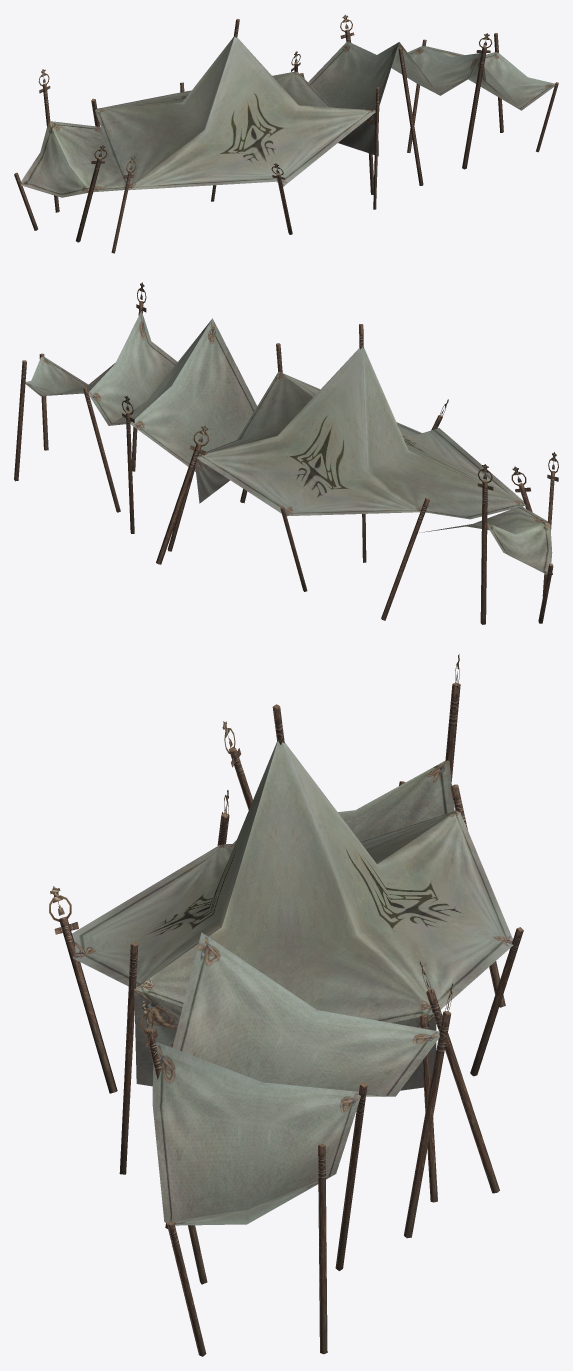
File: yzc_wdm08_LOD1.FBX
3 views of the same model, one above another, from view 1: azimuth 30°, elevation 25°; view 2: azimuth 150°, elevation 25°; view 3: azimuth 270°, elevation 25° (orthographic). The views are drawn at different scales.
Visible parts, largest first — view 1: yzc_wdm08_LOD1; view 2: yzc_wdm08_LOD1; view 3: yzc_wdm08_LOD1.
Part boxes in pixels (<box>): yzc_wdm08_LOD1: <box>14,15,558,253</box>; yzc_wdm08_LOD1: <box>14,282,558,624</box>; yzc_wdm08_LOD1: <box>49,654,523,1356</box>.
Size of the model in its own units: 3015 by 1129 by 1274.
